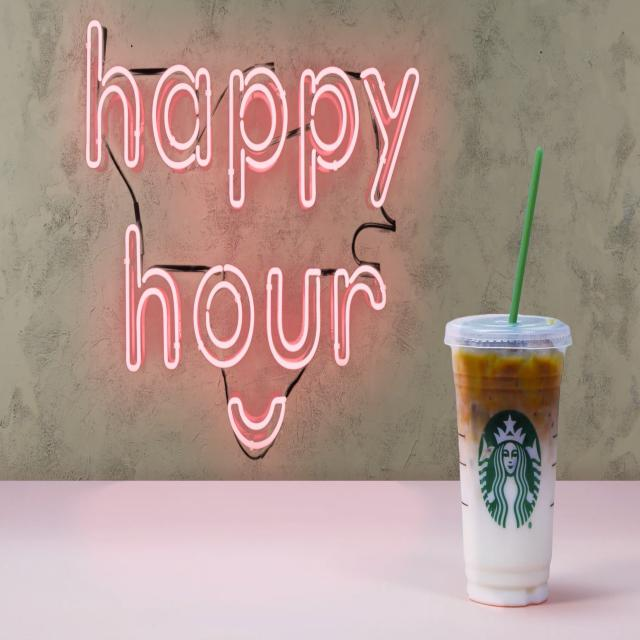starbucks: (476, 408, 546, 536)
